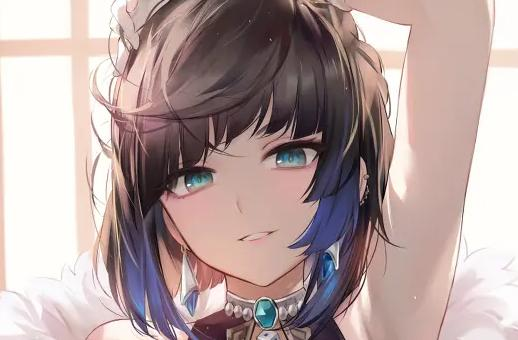夜兰: (87, 1, 499, 340)
